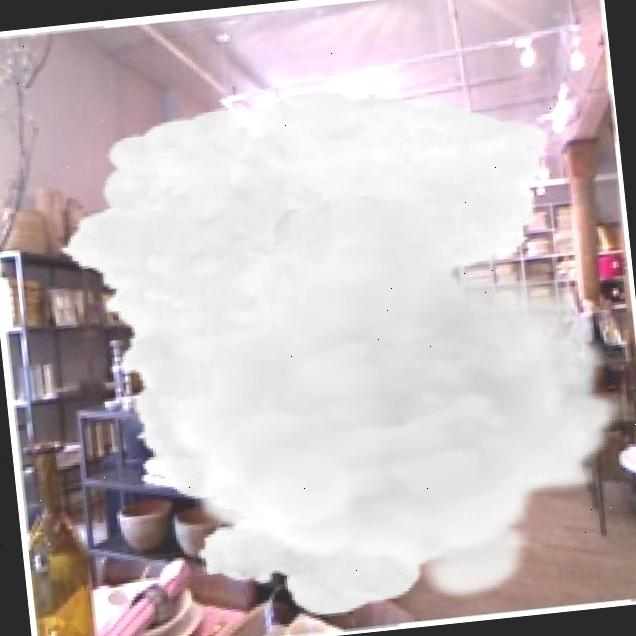smoke: (44, 62, 636, 636)
